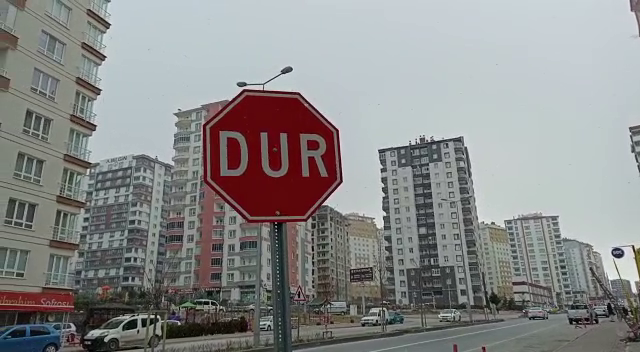stop: (199, 88, 346, 225)
